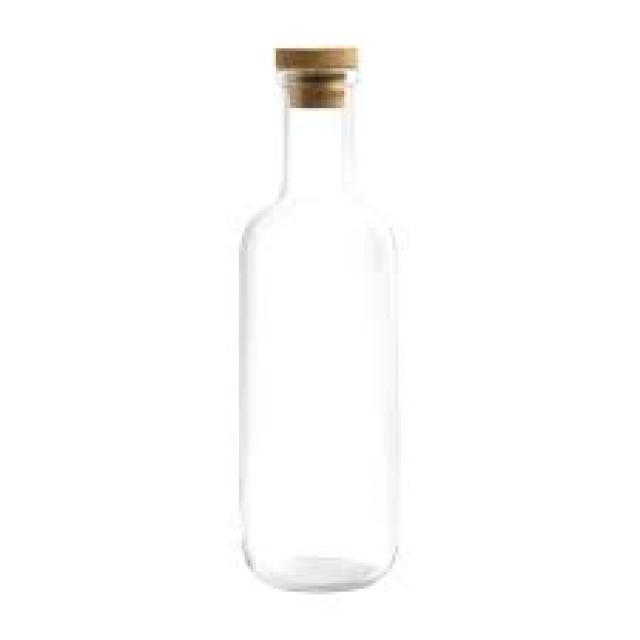Glass-Non-Biodegradable but Recyclable-: (237, 42, 410, 595)
